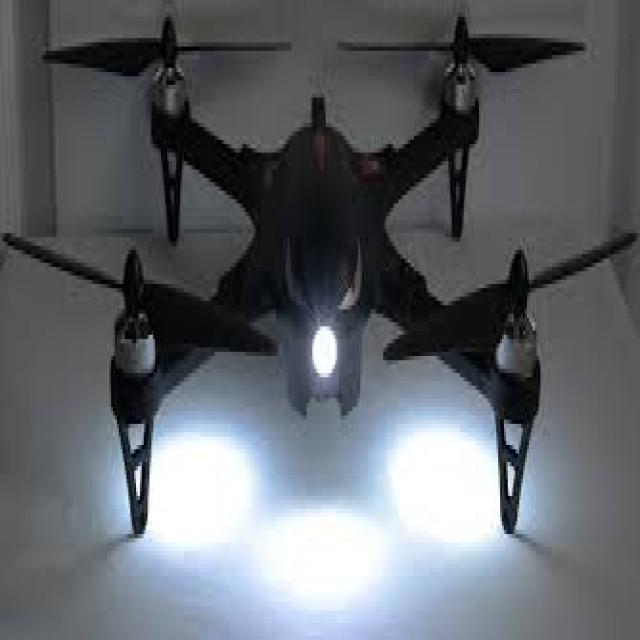drone: (8, 0, 619, 585)
